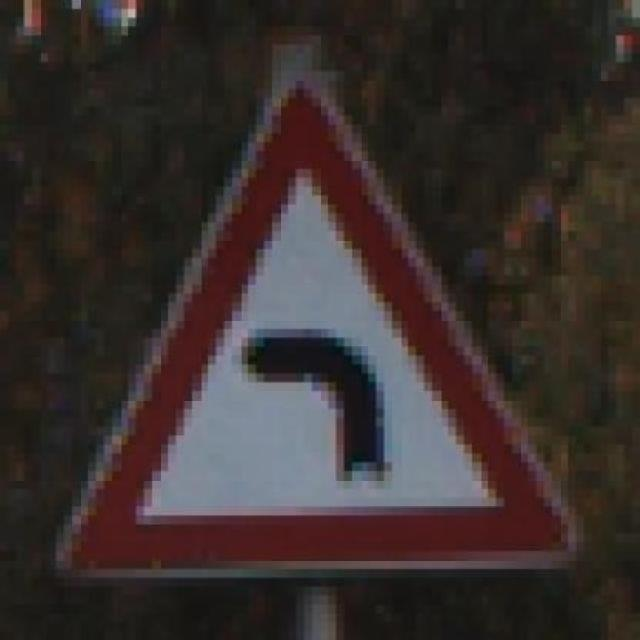Dangerous Left Curve Ahead: (27, 72, 571, 580)
